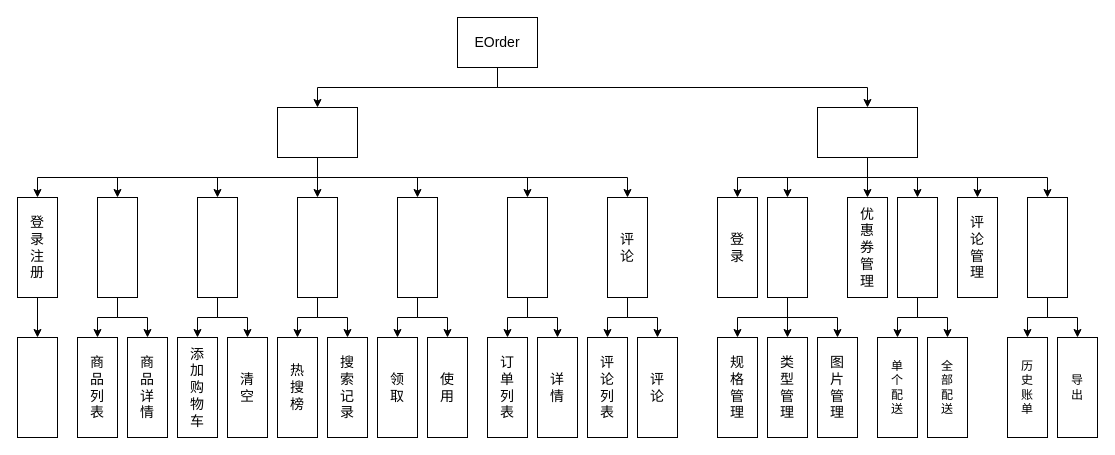
Image size: 1115x455. Some labels were removed from this diagram. The shapes that lost their labels are listed below. From the top down, each one's centre as x and y in pixels, then its label:
the point at 317,132: 微信小程序
the point at 867,132: Web商户系统
the point at 117,247: 商 品 模 块
the point at 217,247: 购 物 车 模 块
the point at 317,247: 搜 索
the point at 417,247: 优 惠 券
the point at 527,247: 订 单
the point at 787,247: 商 品 管 理
the point at 917,247: 订 单 管 理
the point at 1047,247: 账 单
the point at 37,387: 修 改 信 息
